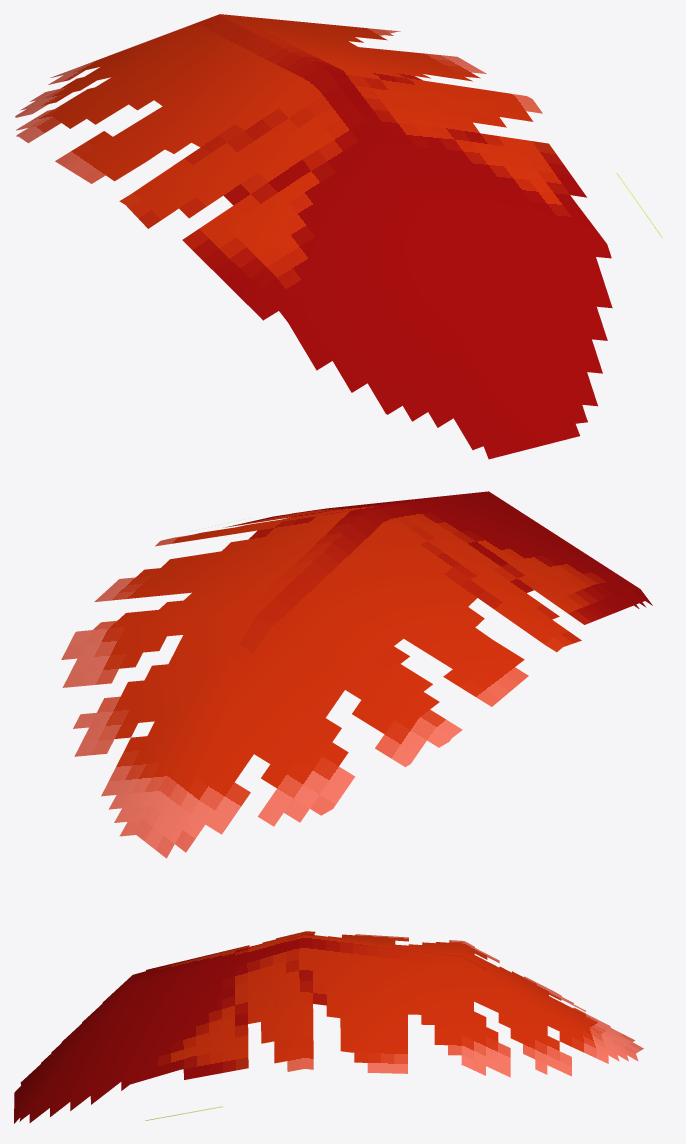
File: SM_RedLeaf.FBX
The picture shows the model from 3 angles, top to bottom: view 1: azimuth 30°, elevation 25°; view 2: azimuth 150°, elevation 25°; view 3: azimuth 270°, elevation 25°; orthographic projection. The views are drawn at different scales.
Parts seen in each view (by area): view 1: RedLeaf; view 2: RedLeaf; view 3: RedLeaf.
Part boxes in pixels (<box>): RedLeaf: <box>15,14,662,459</box>; RedLeaf: <box>61,491,652,858</box>; RedLeaf: <box>14,931,643,1123</box>.
Bounding box in the file's own units: 20.5 × 10.33 × 36.45.
